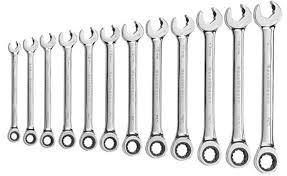wrench: (252, 0, 282, 174), (223, 1, 252, 169), (194, 5, 223, 167), (168, 12, 195, 161), (143, 15, 169, 159), (119, 19, 144, 156), (98, 22, 120, 152), (77, 25, 98, 151), (56, 28, 77, 149), (38, 31, 56, 148), (20, 35, 38, 146), (5, 39, 20, 143)
